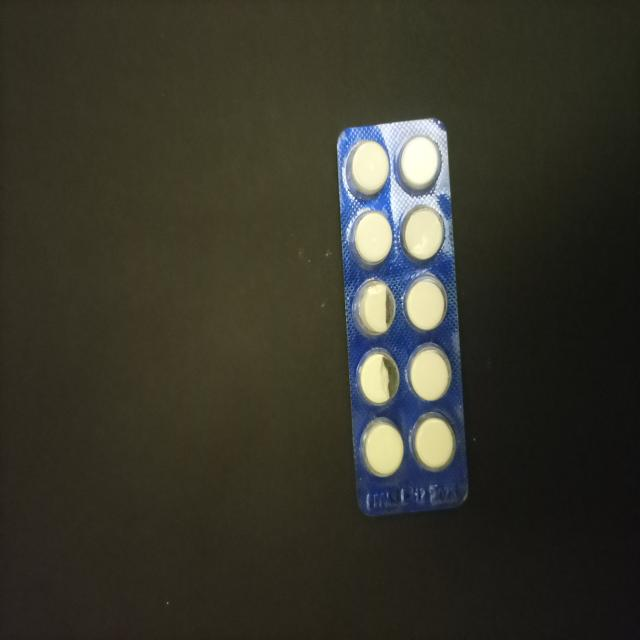defect: (355, 346, 401, 408), (352, 277, 397, 338)
